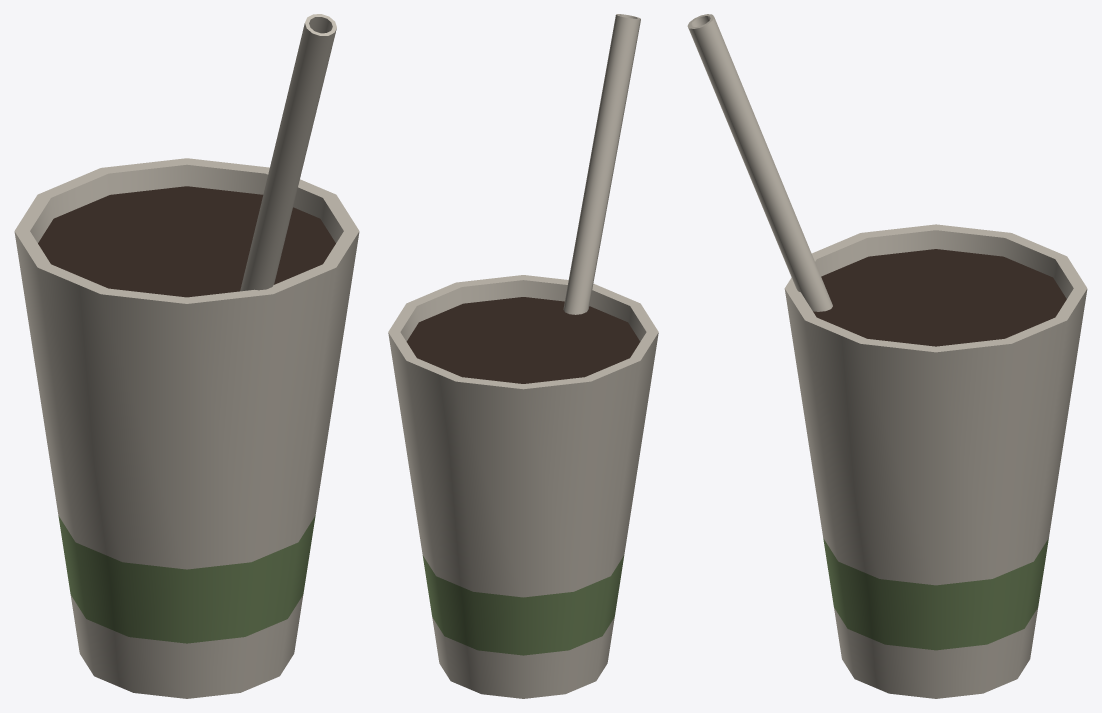
The model's file is Drink_01.fbx.
3 views of the same model, side by side, from view 1: azimuth 30°, elevation 25°; view 2: azimuth 150°, elevation 25°; view 3: azimuth 270°, elevation 25° (orthographic). The views are drawn at different scales.
Parts seen in each view (by area): view 1: Drink_01; view 2: Drink_01; view 3: Drink_01.
Part boxes in pixels (x1=…): Drink_01: x1=14, y1=14, x2=359, y2=698; Drink_01: x1=388, y1=14, x2=658, y2=698; Drink_01: x1=687, y1=14, x2=1087, y2=698.
Bounding box in the file's own units: 0.1094 × 0.256 × 0.1445.
